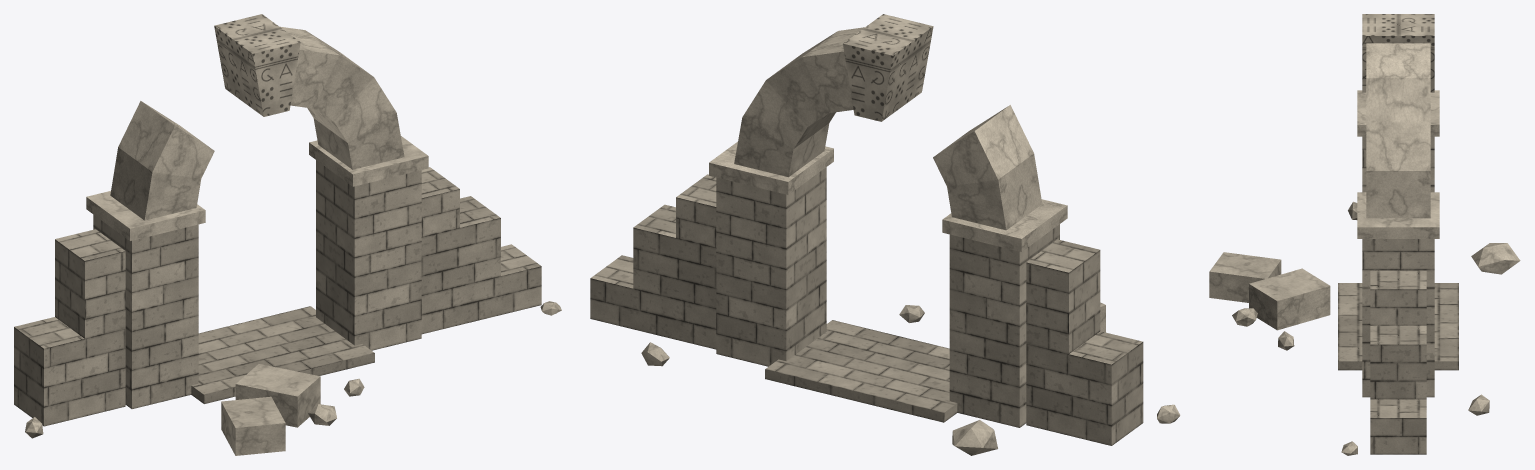
Rendered from ruin-arch.glb.
The picture shows the model from 3 angles, left to right: view 1: azimuth 30°, elevation 25°; view 2: azimuth 150°, elevation 25°; view 3: azimuth 270°, elevation 25°; orthographic projection. The views are drawn at different scales.
Parts seen in each view (by area): view 1: ruin-arch; view 2: ruin-arch; view 3: ruin-arch.
Boxes of the visible parts, <box> form: ruin-arch: <box>14,14,561,455</box>; ruin-arch: <box>590,14,1180,455</box>; ruin-arch: <box>1209,14,1520,455</box>.
Bounding box in the file's own units: 7.17 × 4.19 × 3.86.
Materials: 3 (3 with a texture image).
